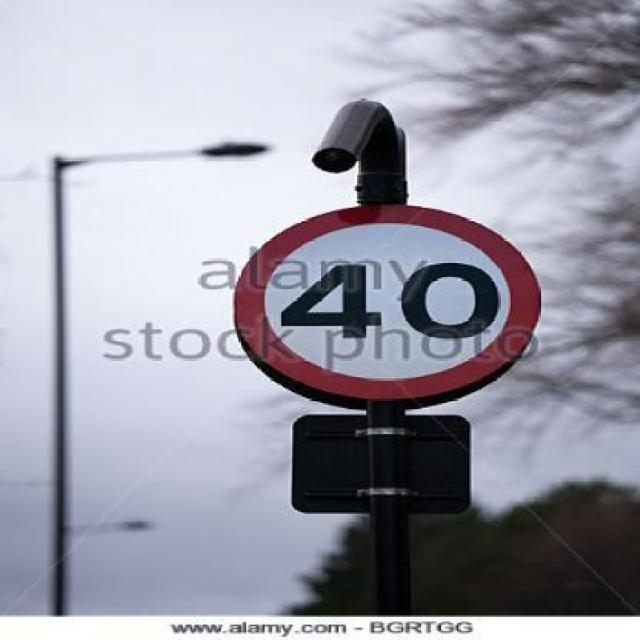forb_speed_over_40: (235, 206, 536, 399)
